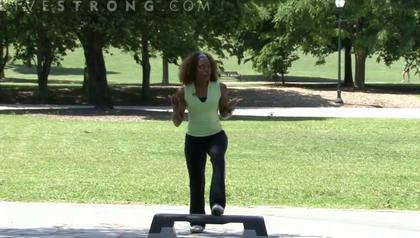stay: (167, 49, 243, 208)
